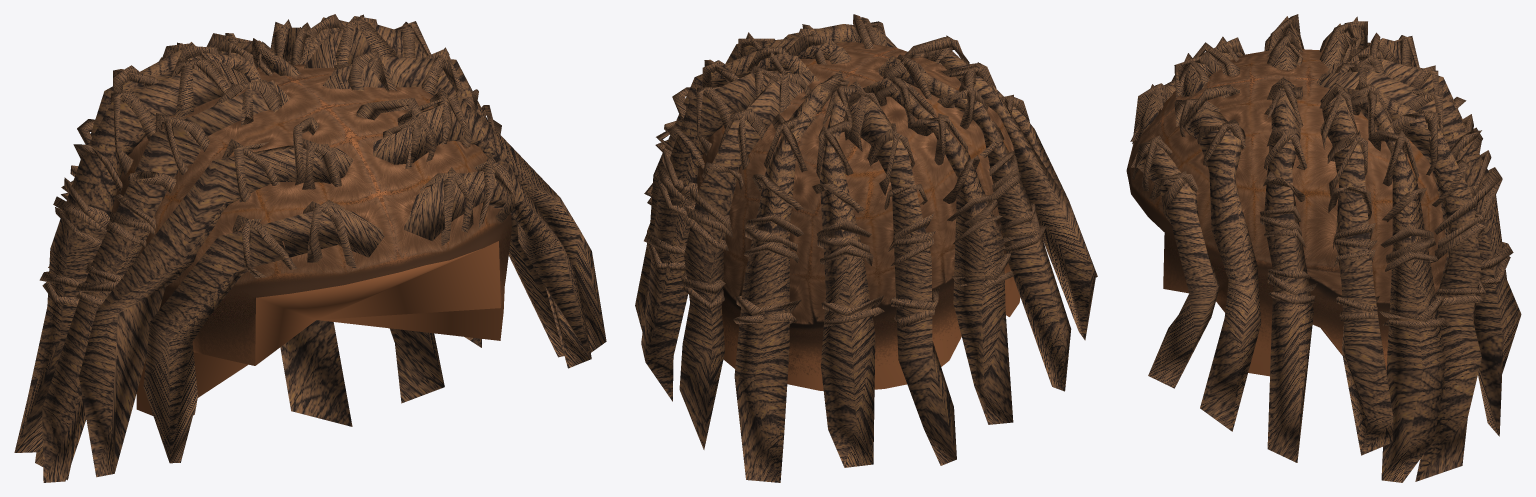
The picture shows the model from 3 angles, left to right: view 1: azimuth 30°, elevation 25°; view 2: azimuth 150°, elevation 25°; view 3: azimuth 270°, elevation 25°; orthographic projection. The views are drawn at different scales.
Visible parts, largest first — view 1: geometry_0; view 2: geometry_0; view 3: geometry_0.
Part boxes in pixels (left/top/right/bottom): geometry_0: left=14, top=14, right=606, bottom=482; geometry_0: left=635, top=14, right=1097, bottom=482; geometry_0: left=1126, top=14, right=1521, bottom=482.
Bounding box in the file's own units: 1.78 × 1.49 × 1.42.
1 material, 1 textured.
